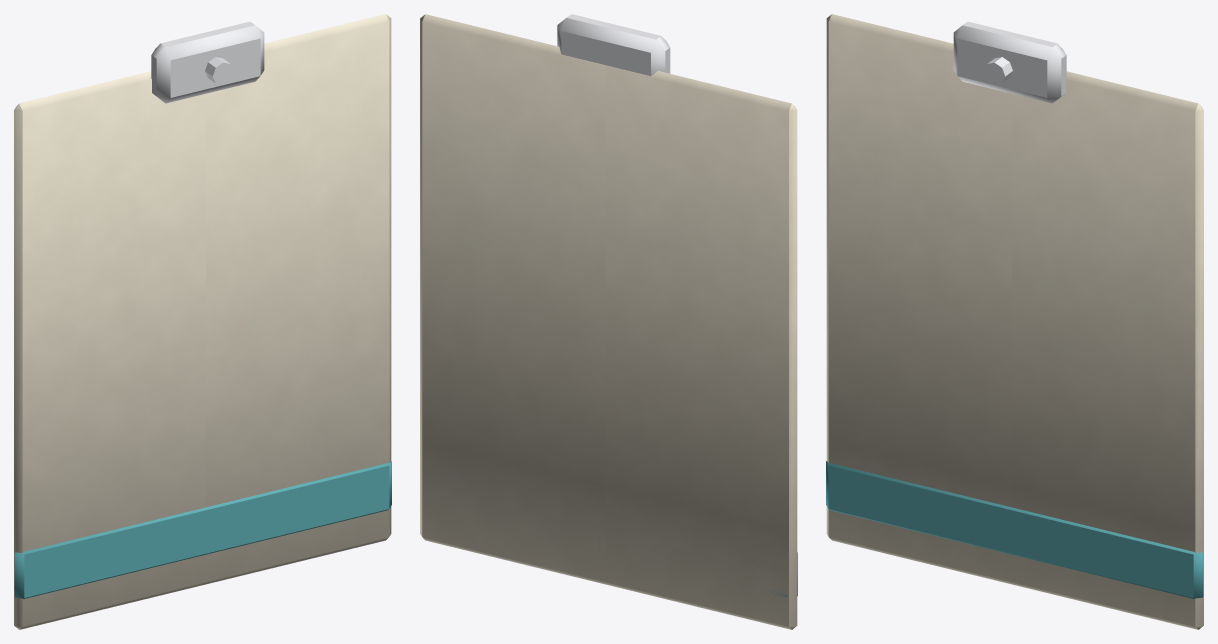
Rendered from kr_ticket.glb.
3 views of the same model, side by side, from view 1: azimuth 30°, elevation 25°; view 2: azimuth 150°, elevation 25°; view 3: azimuth 330°, elevation 25° (orthographic).
Parts seen in each view (by area): view 1: kr_ticket_paper, vc_m0_r4, vc_m8_r2; view 2: kr_ticket_paper, vc_m8_r2; view 3: kr_ticket_paper, vc_m0_r4, vc_m8_r2.
Boxes of the visible parts, <box> form: kr_ticket_paper: <box>14,14,391,629</box>; vc_m0_r4: <box>14,461,391,598</box>; vc_m8_r2: <box>151,21,264,103</box>; kr_ticket_paper: <box>420,14,797,629</box>; vc_m8_r2: <box>557,14,670,76</box>; kr_ticket_paper: <box>826,14,1203,629</box>; vc_m0_r4: <box>826,461,1203,598</box>; vc_m8_r2: <box>953,21,1066,103</box>.
Size of the model in its own units: 0.42 by 0.59 by 0.046.
3 materials, 1 textured.
